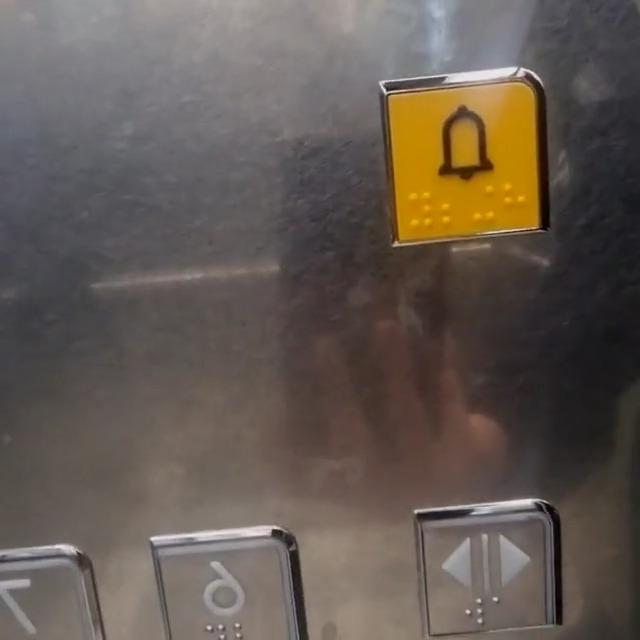button: (389, 81, 549, 245), (408, 501, 558, 635), (151, 520, 297, 640), (1, 525, 101, 640)
